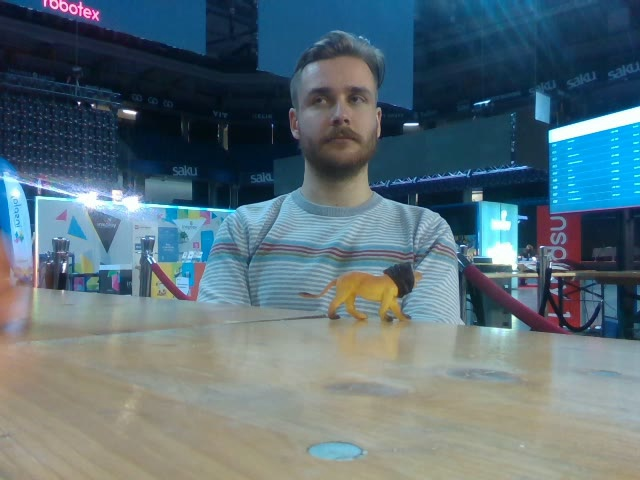toy: (298, 262, 424, 323)
